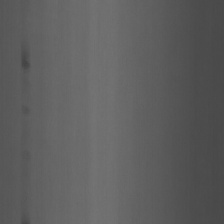oil_spot: (18, 43, 34, 70)
